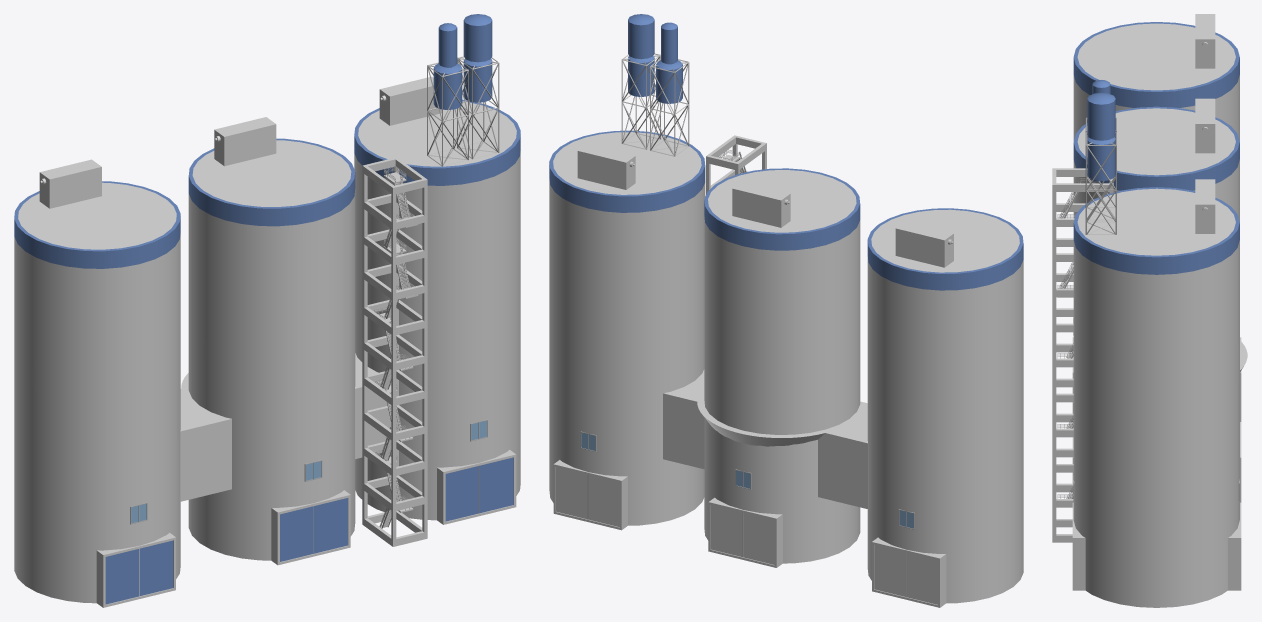
Rendered from cunchucang.gltf.
3 views of the same model, side by side, from view 1: azimuth 30°, elevation 25°; view 2: azimuth 150°, elevation 25°; view 3: azimuth 270°, elevation 25° (orthographic). The views are drawn at different scales.
Parts seen in each view (by area): view 1: 工业设备04; view 2: 工业设备04; view 3: 工业设备04.
Boxes of the visible parts, bbox=[...] form: 工业设备04: bbox=[14, 14, 520, 607]; 工业设备04: bbox=[549, 14, 1023, 607]; 工业设备04: bbox=[1052, 14, 1247, 607].
Size of the model in its own units: 16.33 by 15.63 by 5.72.
